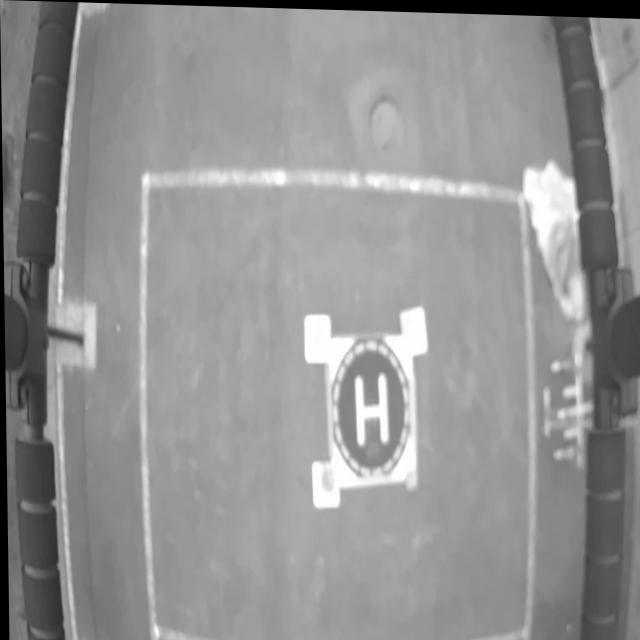Helipad: (354, 372, 388, 444)
